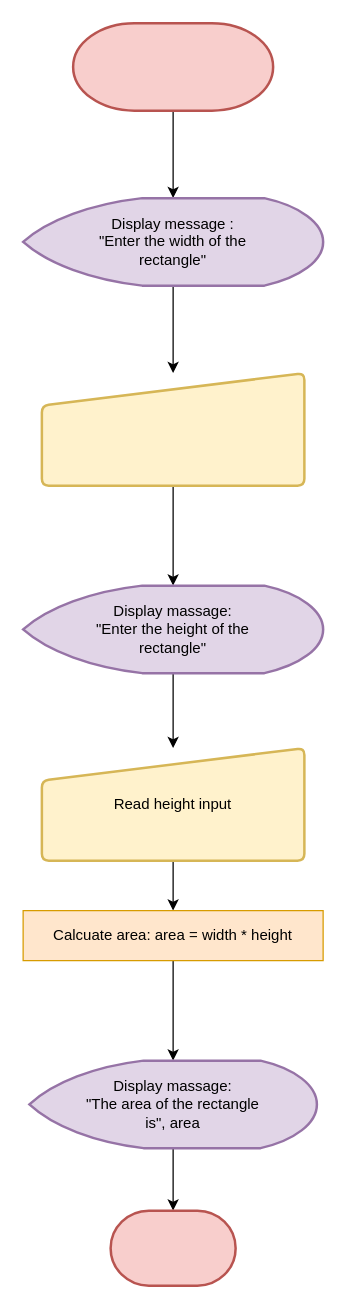
Some shapes in this 345 by 1308 pixel diagram are drawn without their labels. Here are the shapes that lost their labels. From the top down, the centre of each, then its label:
the point at 172,66: start
the point at 172,428: Read width input
the point at 172,1247: End
